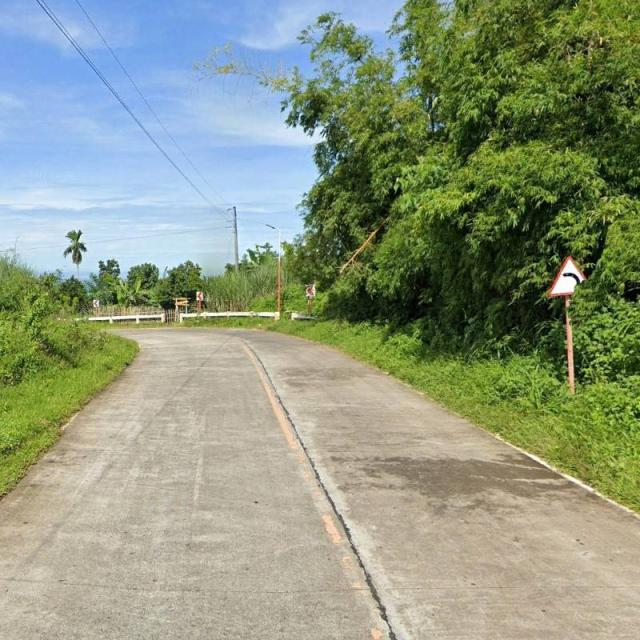warn_left_curve: (547, 256, 594, 296)
